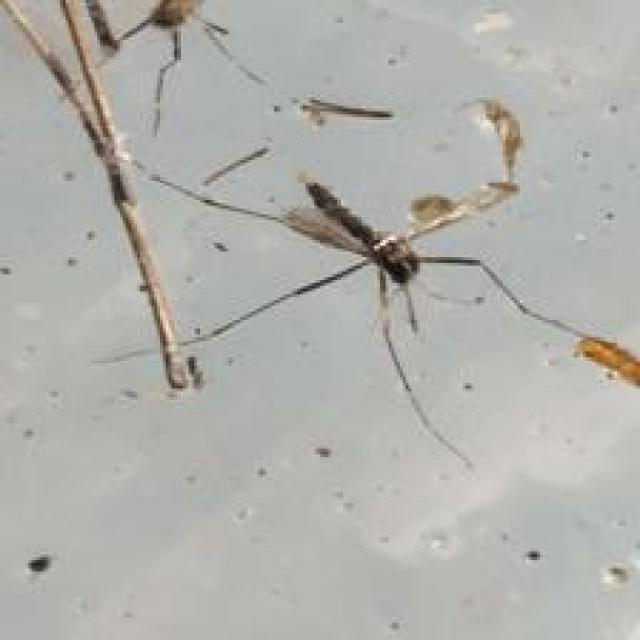Aedes albopictus: (142, 97, 638, 472)
